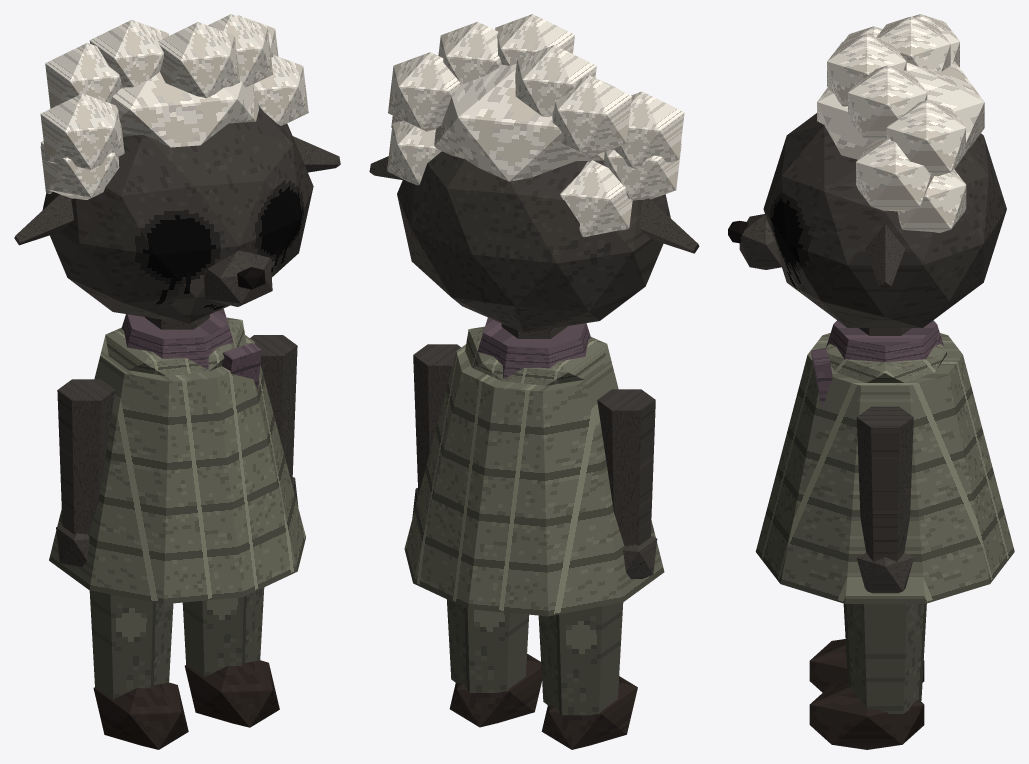
The model's file is hollis.glb.
The picture shows the model from 3 angles, left to right: view 1: azimuth 30°, elevation 25°; view 2: azimuth 150°, elevation 25°; view 3: azimuth 270°, elevation 25°; orthographic projection. The views are drawn at different scales.
Visible parts, largest first — view 1: head, torso, leg-left, leg-right, arm-left, arm-right; view 2: head, torso, leg-left, leg-right, arm-left, arm-right; view 3: head, torso, leg-right, arm-right, leg-left.
Part boxes in pixels (x1,y1,x2,y2): head: (14,14,340,323); torso: (49,308,305,604); leg-left: (89,590,188,749); leg-right: (182,587,279,727); arm-left: (56,379,115,567); arm-right: (250,335,298,506); head: (369,14,699,332); torso: (404,317,664,616); leg-left: (538,602,637,749); leg-right: (447,599,541,727); arm-left: (597,389,657,578); arm-right: (412,344,460,517); head: (728,14,1006,327); torso: (755,320,1014,603); leg-right: (809,603,926,749); arm-right: (856,406,913,593); leg-left: (809,639,924,692).
Bounding box in the file's own units: 0.7108 × 1.49 × 0.5531.
1 material, 1 textured.
